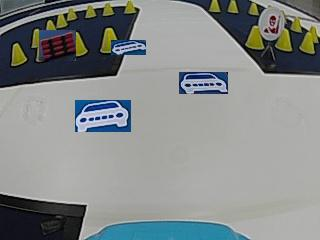evil: (257, 7, 283, 40)
